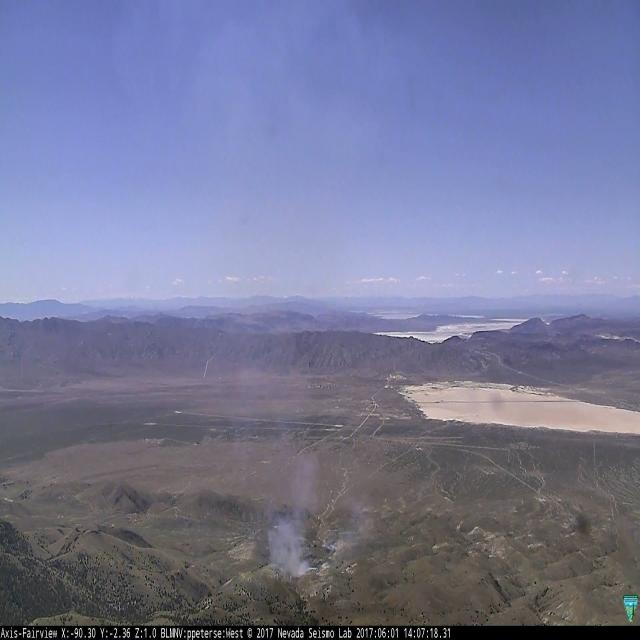smoke: (266, 466, 321, 579), (331, 501, 366, 555)
